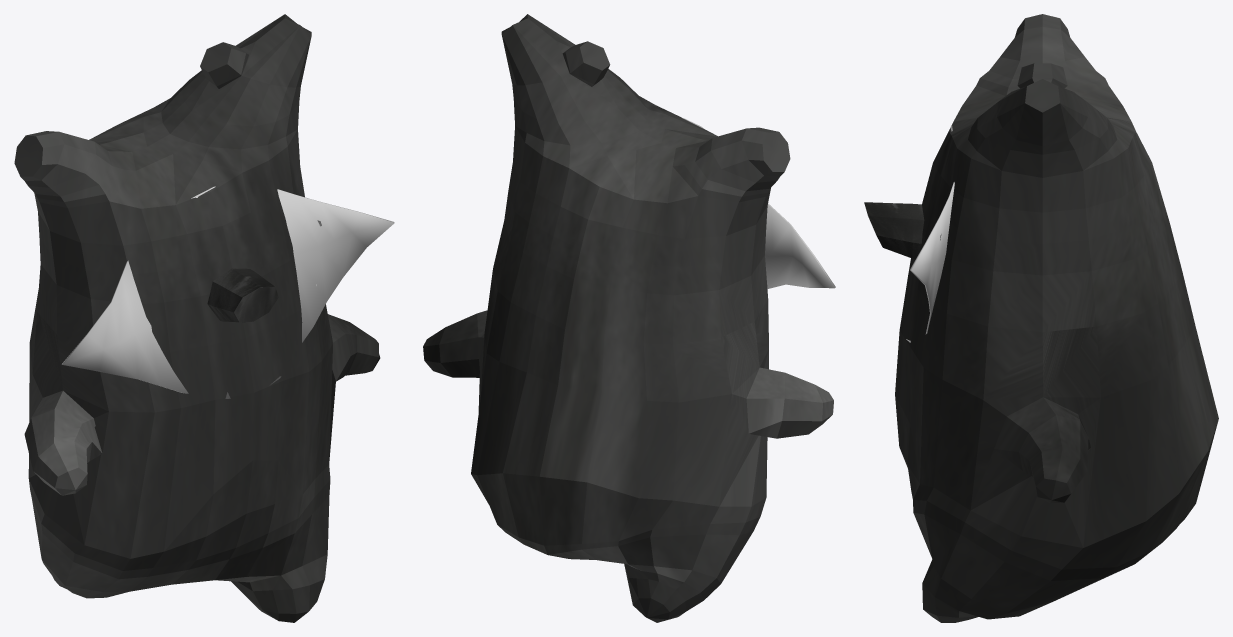
File: frame_0006.obj
3 views of the same model, side by side, from view 1: azimuth 30°, elevation 25°; view 2: azimuth 150°, elevation 25°; view 3: azimuth 270°, elevation 25° (orthographic). The views are drawn at different scales.
Parts seen in each view (by area): view 1: korok, leaf, nose; view 2: korok, leaf; view 3: korok, nose, leaf.
Part boxes in pixels (x1,y1,x2,y2): korok: [14, 14, 380, 622]; leaf: [62, 186, 394, 398]; nose: [207, 268, 278, 322]; korok: [423, 14, 833, 622]; leaf: [682, 118, 835, 288]; korok: [895, 14, 1218, 622]; nose: [864, 202, 924, 259]; leaf: [906, 126, 954, 342].
Bounding box in the file's own units: 1.57 × 2.22 × 1.27.
